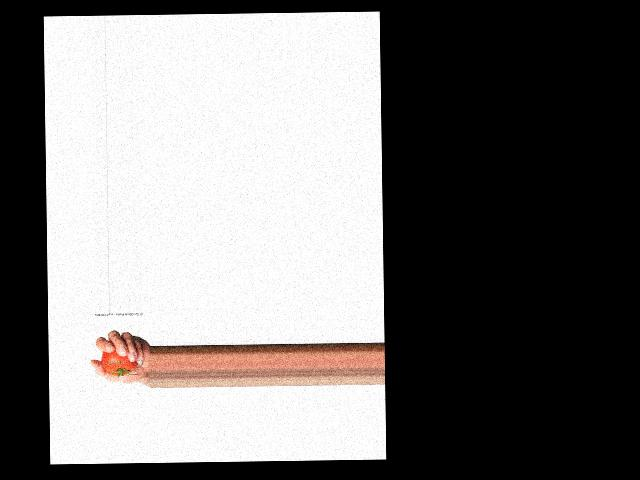tomato: (101, 350, 137, 375)
